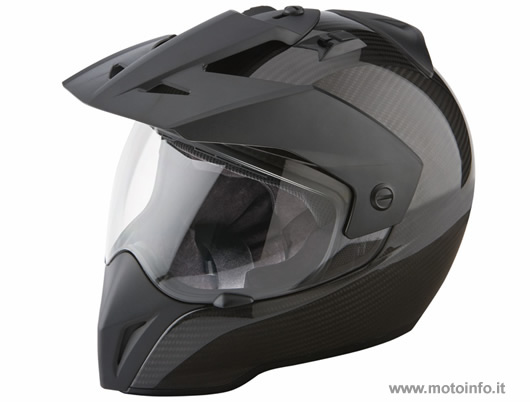helmet: (70, 5, 462, 364)
